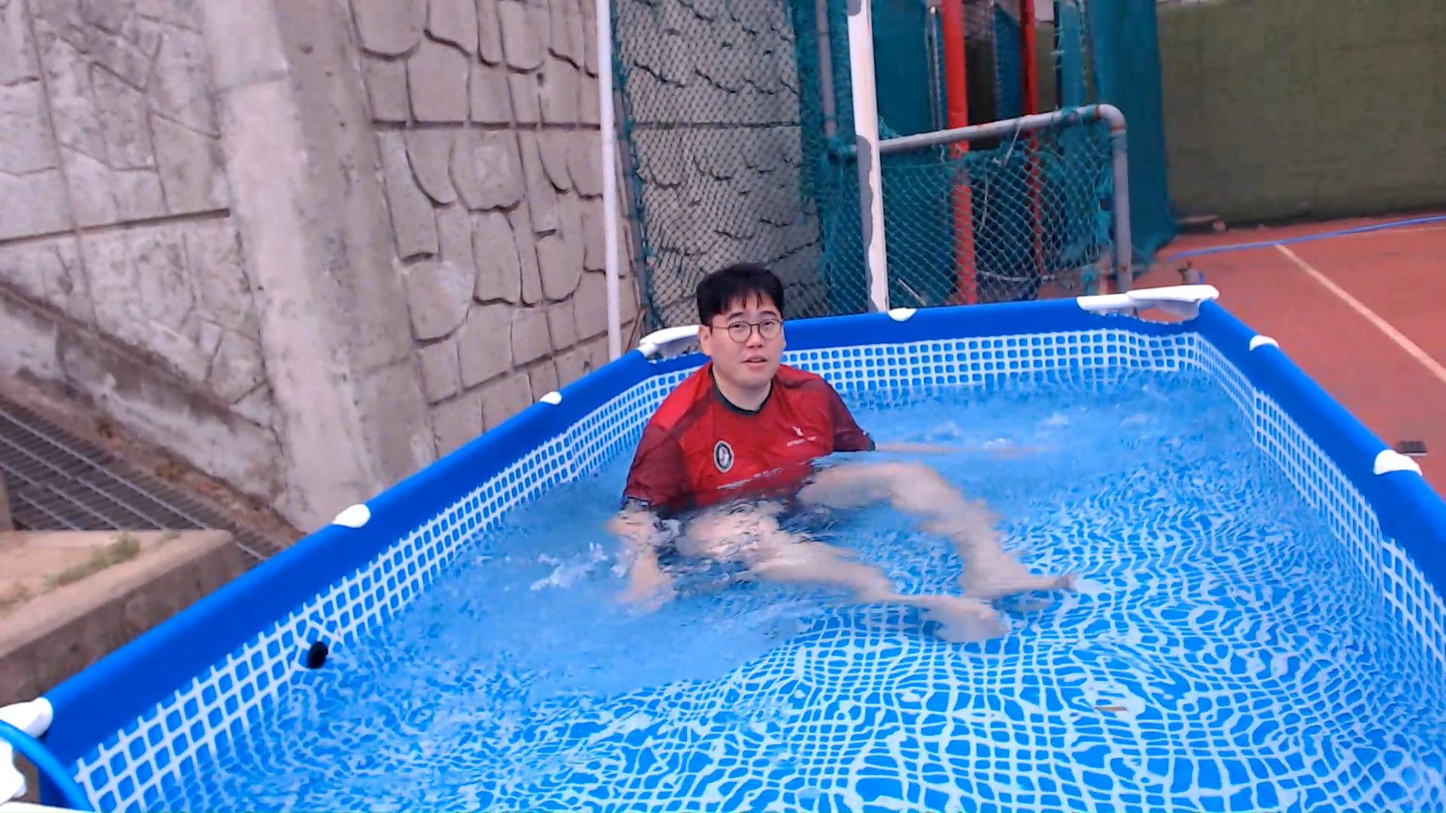Swimming: (545, 229, 1140, 671)
